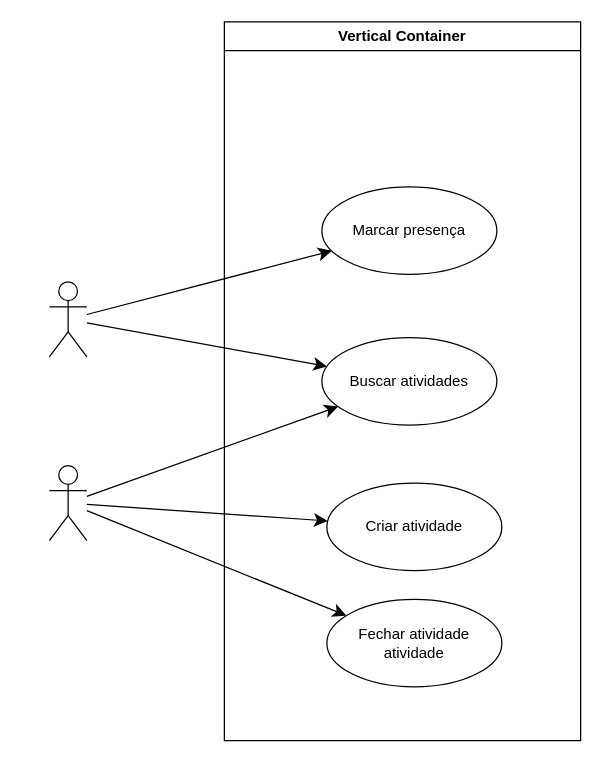
The diagram is 603 pixels wide and 763 high, and some of its shapes have lost their labels. Here are the shapes that lost their labels. From the top down, the centre of each, then its label:
point (67, 319): Usuário
point (67, 502): Administrador
